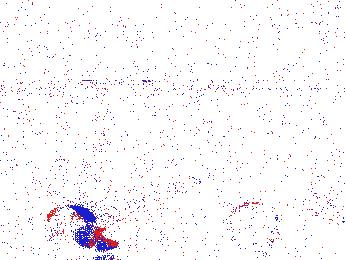flame jellyfish: (42, 206, 117, 253), (61, 94, 112, 153), (226, 201, 281, 252)
